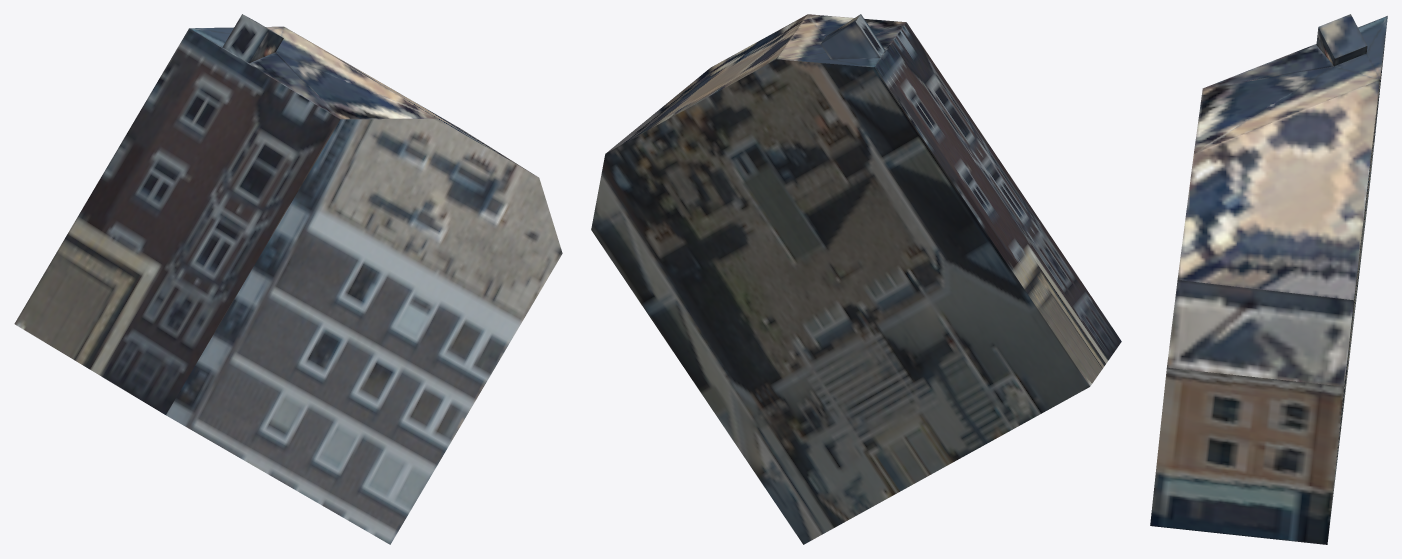
3 renders of one model, left to right at view 1: azimuth 30°, elevation 25°; view 2: azimuth 150°, elevation 25°; view 3: azimuth 270°, elevation 25°, orthographic. The views are drawn at different scales.
Visible parts, largest first — view 1: BAG_0599100000671750 (×4); view 2: BAG_0599100000671750 (×5); view 3: BAG_0599100000671750 (×4).
Part boxes in pixels (x1,y1,x2,y2): BAG_0599100000671750 (×4): (14, 14, 562, 544); BAG_0599100000671750 (×5): (591, 14, 1121, 544); BAG_0599100000671750 (×4): (1150, 14, 1387, 544).
Size of the model in its own units: 19.94 by 20.34 by 8.73.
5 materials, 5 textured.
